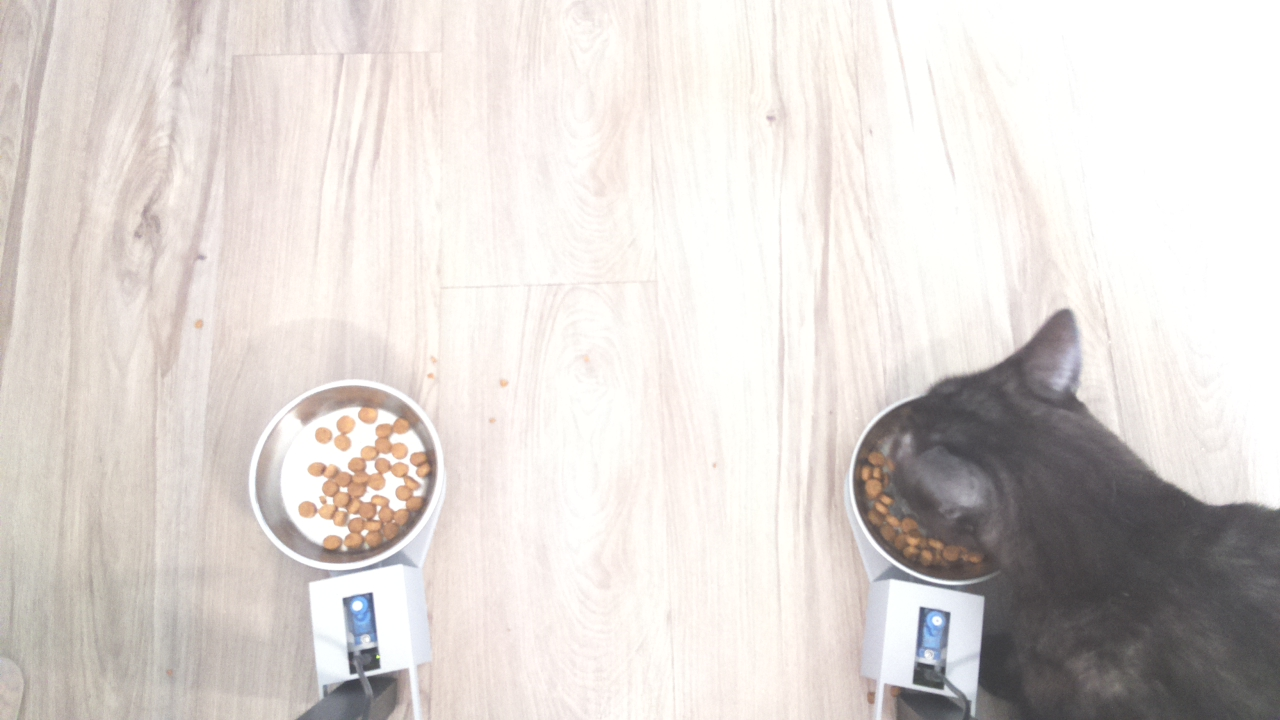open_bowl: (245, 371, 473, 580)
saki_eating: (845, 300, 1170, 607)
